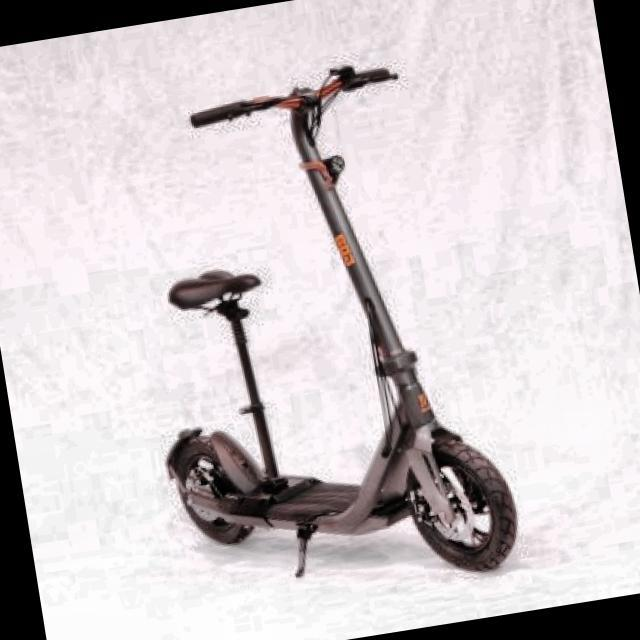bike: (165, 63, 518, 578)
